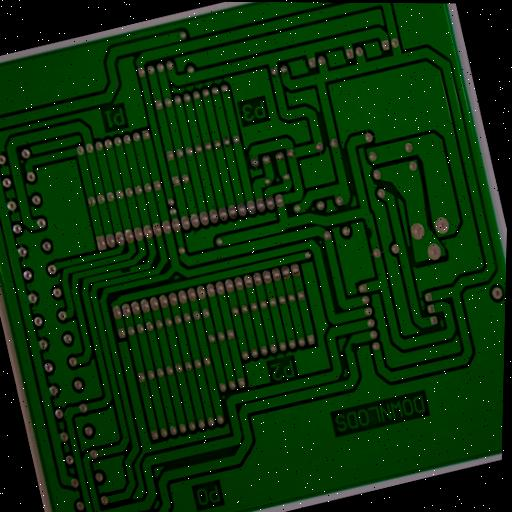mouse_bite: (362, 223, 377, 243), (346, 339, 362, 356), (117, 264, 133, 277)
